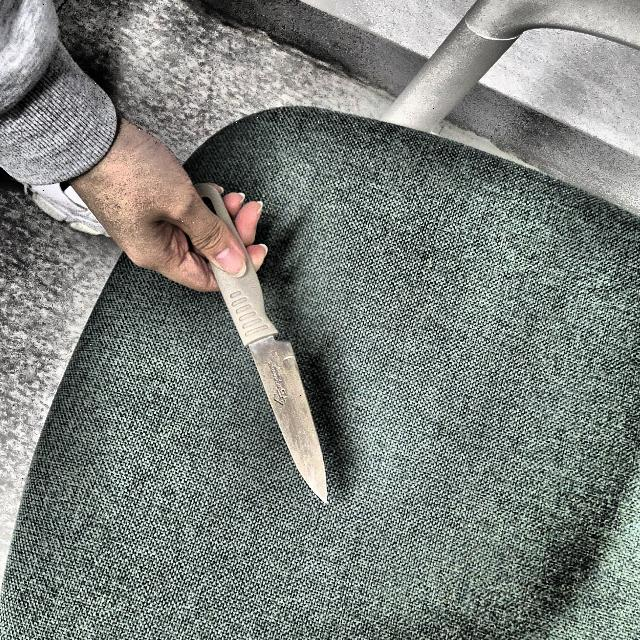knife: (186, 173, 336, 508)
